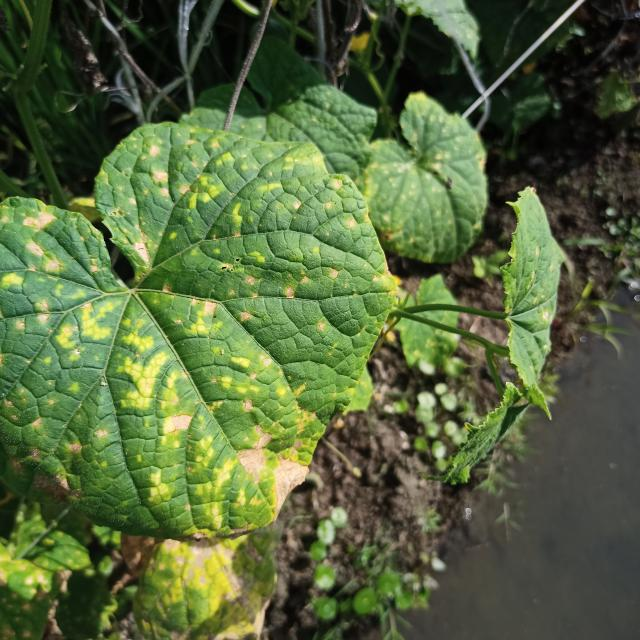disease_cucumber: (0, 130, 374, 536)
